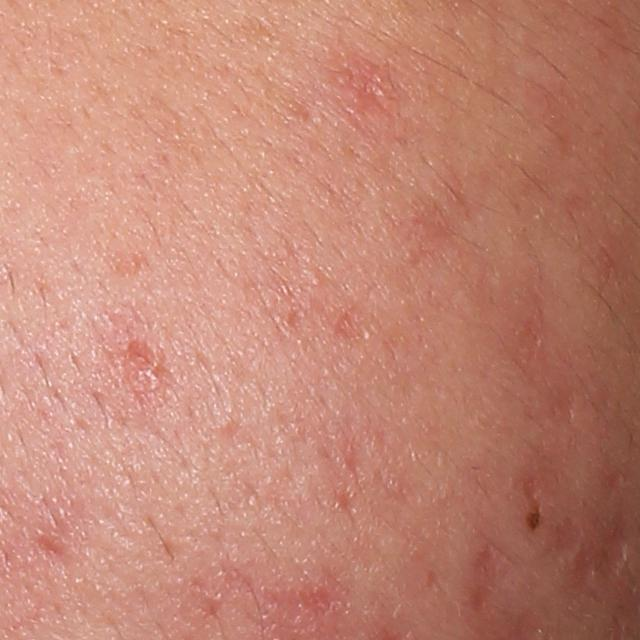atrophic_scar: (565, 509, 636, 601)
nevus: (523, 507, 542, 534)
